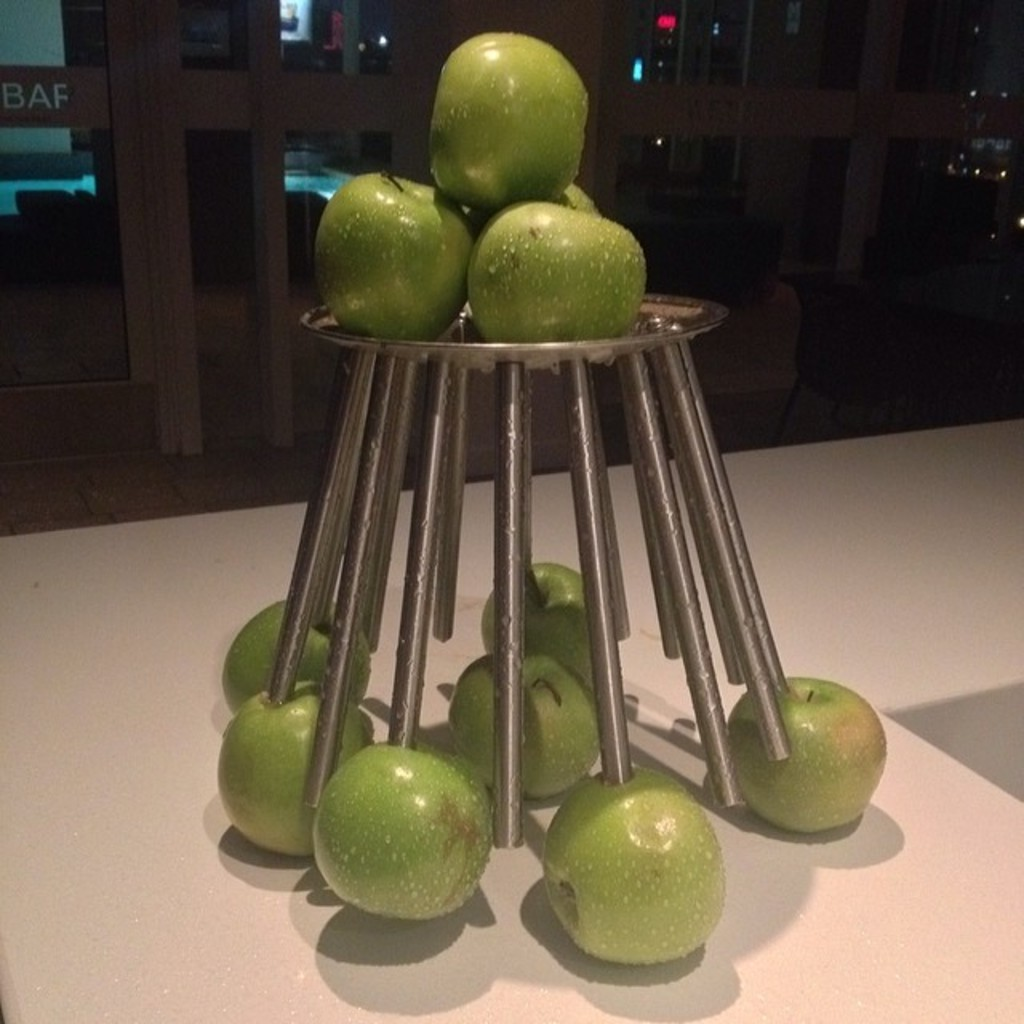Apple: (540, 761, 724, 964), (313, 740, 497, 923), (425, 32, 592, 209), (315, 169, 483, 340), (217, 683, 371, 862), (724, 672, 886, 833), (465, 201, 646, 336), (444, 656, 604, 798), (216, 595, 376, 715), (483, 561, 593, 688), (470, 180, 600, 214)
